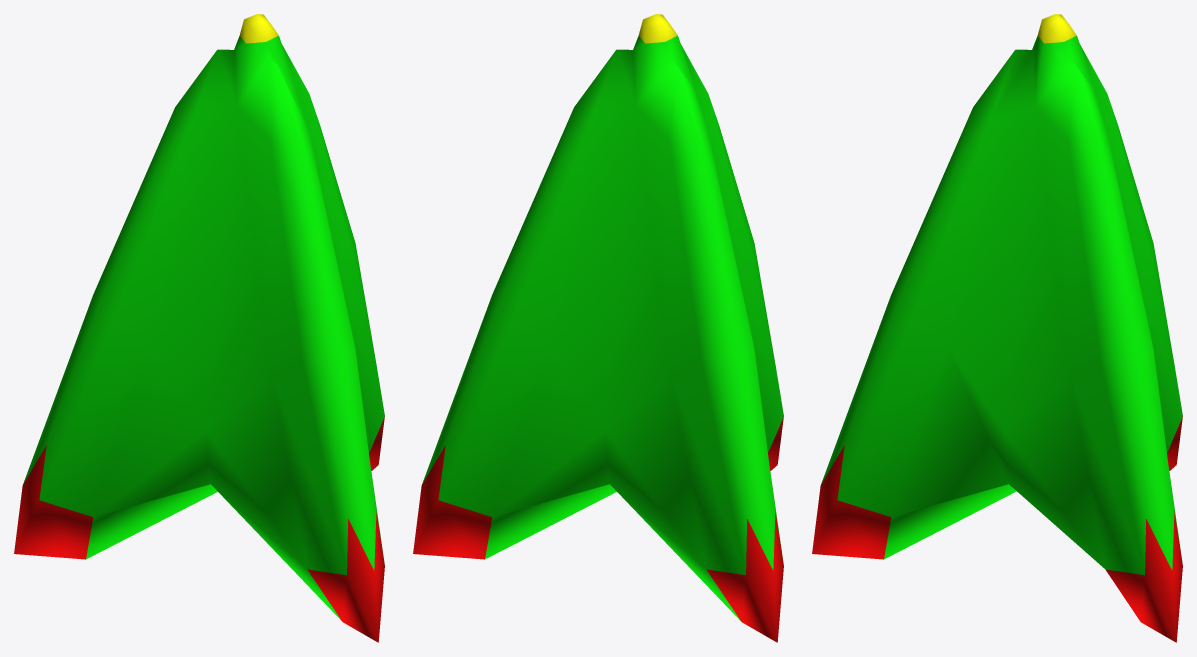
The model's file is ship.obj.
The picture shows the model from 3 angles, left to right: view 1: azimuth 30°, elevation 25°; view 2: azimuth 150°, elevation 25°; view 3: azimuth 270°, elevation 25°; orthographic projection.
Parts seen in each view (by area): view 1: tetrahedron6_default, tetrahedron6_wings, tetrahedron6_tip; view 2: tetrahedron6_default, tetrahedron6_wings, tetrahedron6_tip; view 3: tetrahedron6_default, tetrahedron6_wings, tetrahedron6_tip.
Boxes of the visible parts, x1,y1,x2,y2 form: tetrahedron6_default: (23,35,384,620); tetrahedron6_wings: (14,416,384,642); tetrahedron6_tip: (239,14,278,43); tetrahedron6_default: (422,35,783,620); tetrahedron6_wings: (413,416,783,642); tetrahedron6_tip: (638,14,677,43); tetrahedron6_default: (821,35,1182,575); tetrahedron6_wings: (812,416,1182,642); tetrahedron6_tip: (1037,14,1076,43).
Size of the model in its own units: 1.79 by 2.56 by 1.58.
